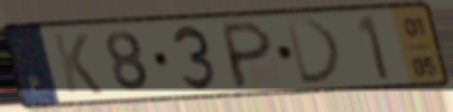1: (355, 13, 393, 83)
3: (171, 22, 217, 93)
8: (105, 29, 153, 94)
D: (281, 16, 346, 88)
K: (49, 31, 107, 97)
P: (221, 18, 275, 91)
